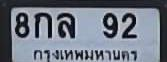2: (121, 12, 135, 38)
8: (14, 11, 28, 37)
9: (102, 12, 117, 37)
A01: (33, 11, 51, 38)
A36: (56, 12, 74, 37)
BKK: (29, 46, 140, 62)
